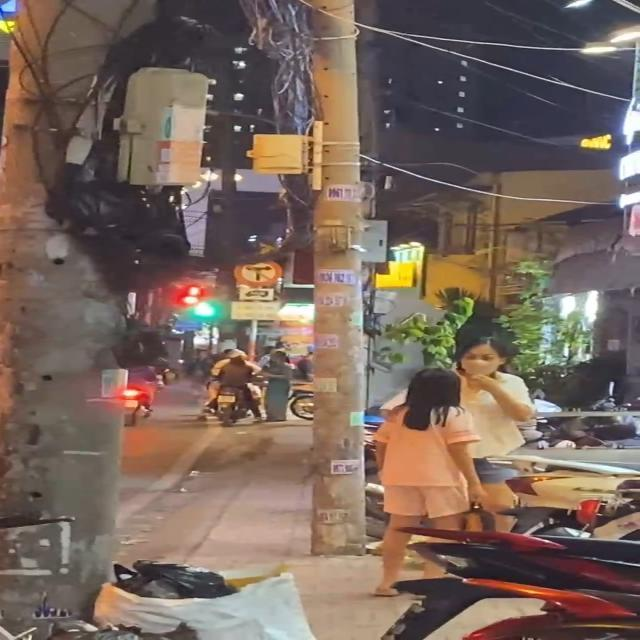137-cam-re-trai-va-re-phai: (234, 254, 282, 288)
